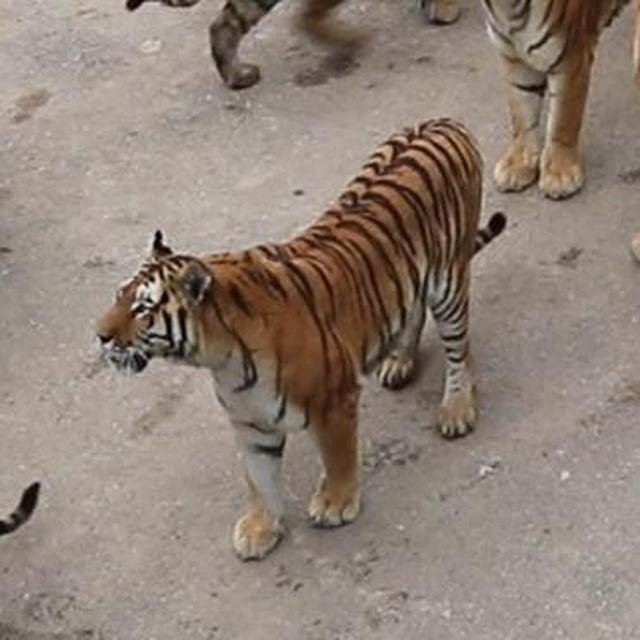tiger: (95, 103, 533, 564), (426, 0, 640, 218), (117, 0, 349, 100), (0, 460, 66, 575)
